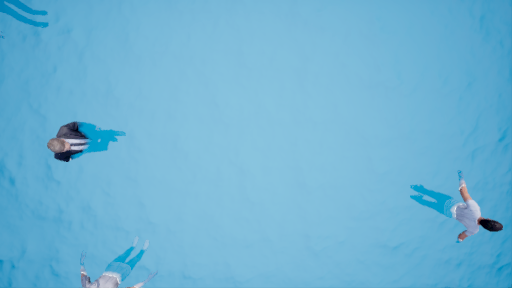person: (398, 173, 502, 248), (47, 118, 123, 165)
